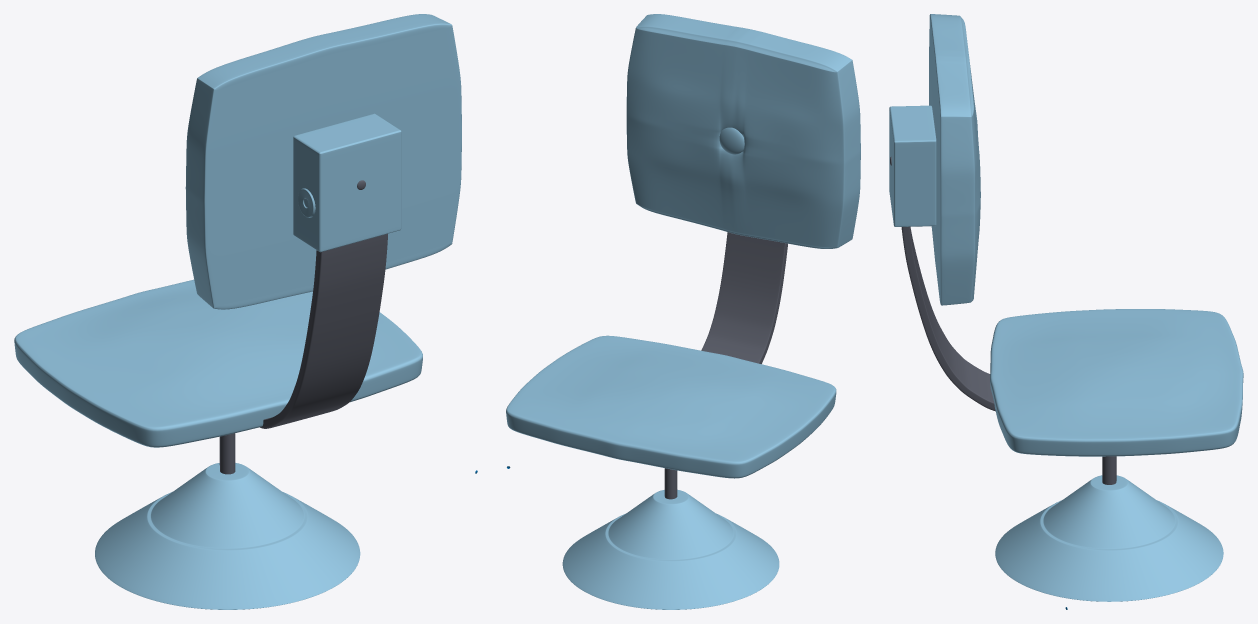
The model's file is M_Office_Chair.fbx.
3 views of the same model, side by side, from view 1: azimuth 30°, elevation 25°; view 2: azimuth 150°, elevation 25°; view 3: azimuth 270°, elevation 25° (orthographic). The views are drawn at different scales.
Parts seen in each view (by area): view 1: Top_Cussion, Bottom_Cussion, Base, pCube1, Connector, Bottom_Cussion_Support; view 2: Top_Cussion, Bottom_Cussion, Base, Connector, pSphere23; view 3: Bottom_Cussion, Base, Top_Cussion, pCube1, Connector.
Boxes of the visible parts, <box> form: Top_Cussion: <box>185,14,461,309</box>; Bottom_Cussion: <box>14,279,422,447</box>; Base: <box>95,463,360,609</box>; pCube1: <box>293,113,401,252</box>; Connector: <box>260,233,387,428</box>; Bottom_Cussion_Support: <box>219,433,235,474</box>; Top_Cussion: <box>626,14,860,248</box>; Bottom_Cussion: <box>506,335,836,478</box>; Base: <box>562,489,779,609</box>; Connector: <box>701,232,787,363</box>; pSphere23: <box>719,127,744,154</box>; Bottom_Cussion: <box>990,309,1243,456</box>; Base: <box>995,475,1223,601</box>; Top_Cussion: <box>929,14,980,305</box>; pCube1: <box>889,105,936,226</box>; Connector: <box>901,226,995,411</box>.
Size of the model in its own units: 13.06 by 18.74 by 12.05.
